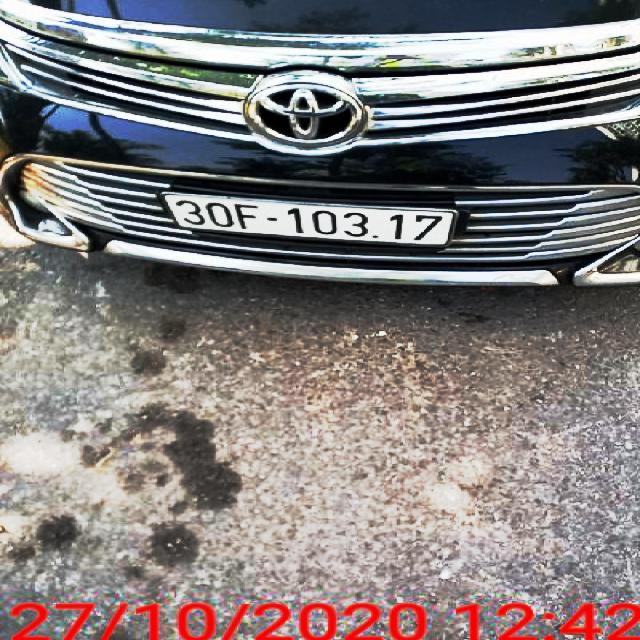license_plate: (161, 195, 455, 246)
